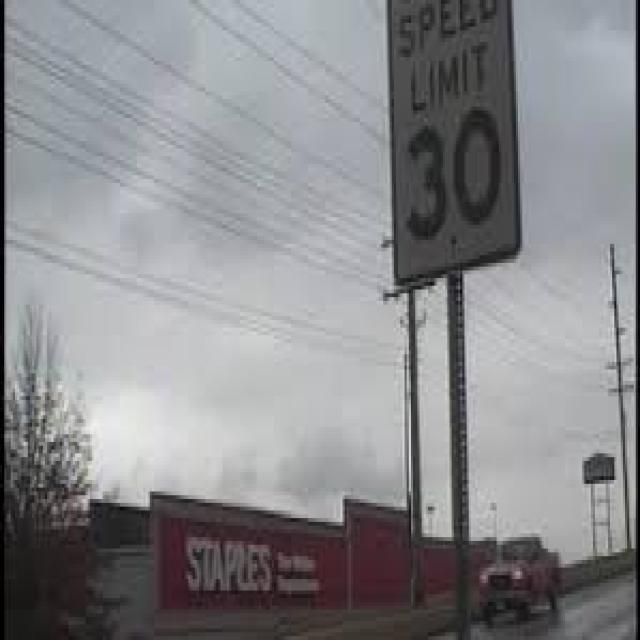speedLimit35: (386, 8, 519, 286)
